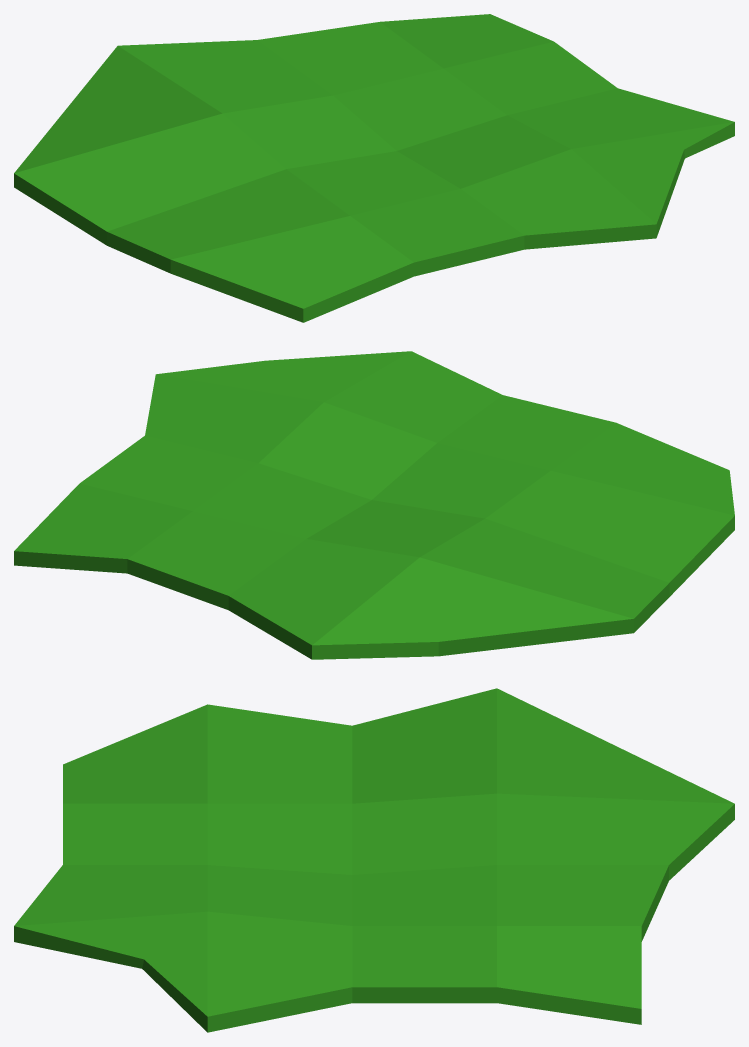
The model's file is lettuce.fbx.
The picture shows the model from 3 angles, top to bottom: view 1: azimuth 30°, elevation 25°; view 2: azimuth 150°, elevation 25°; view 3: azimuth 270°, elevation 25°; orthographic projection. The views are drawn at different scales.
Visible parts, largest first — view 1: Cube; view 2: Cube; view 3: Cube.
Boxes of the visible parts, x1,y1,x2,y2 form: Cube: [14, 14, 734, 322]; Cube: [14, 351, 734, 659]; Cube: [14, 688, 734, 1032].
Bounding box in the file's own units: 269 × 19.96 × 249.
